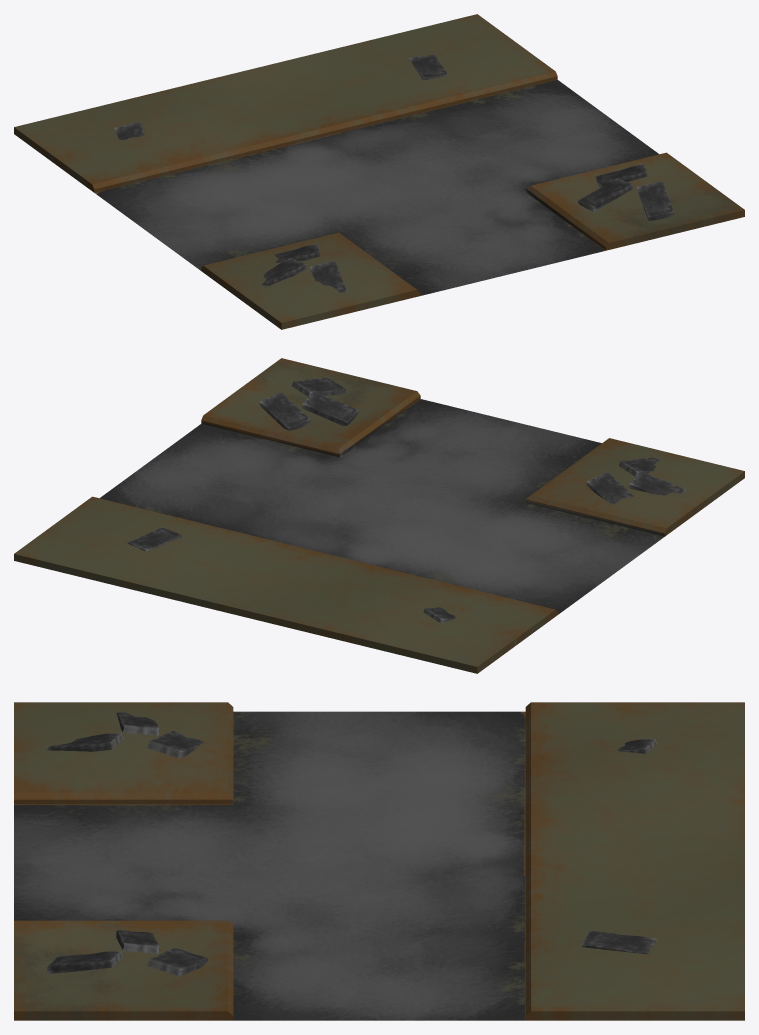
File: T-tile.fbx
3 renders of one model, top to bottom at view 1: azimuth 30°, elevation 25°; view 2: azimuth 150°, elevation 25°; view 3: azimuth 270°, elevation 25°, orthographic. The views are drawn at different scales.
Parts seen in each view (by area): view 1: T_tile; view 2: T_tile; view 3: T_tile.
Part boxes in pixels (left/top/right/bottom): T_tile: left=14, top=14, right=744, bottom=329; T_tile: left=14, top=358, right=744, bottom=673; T_tile: left=14, top=702, right=744, bottom=1020.
Size of the model in its own units: 1300 by 62.21 by 1300.
Materials: 2 (2 with a texture image).
